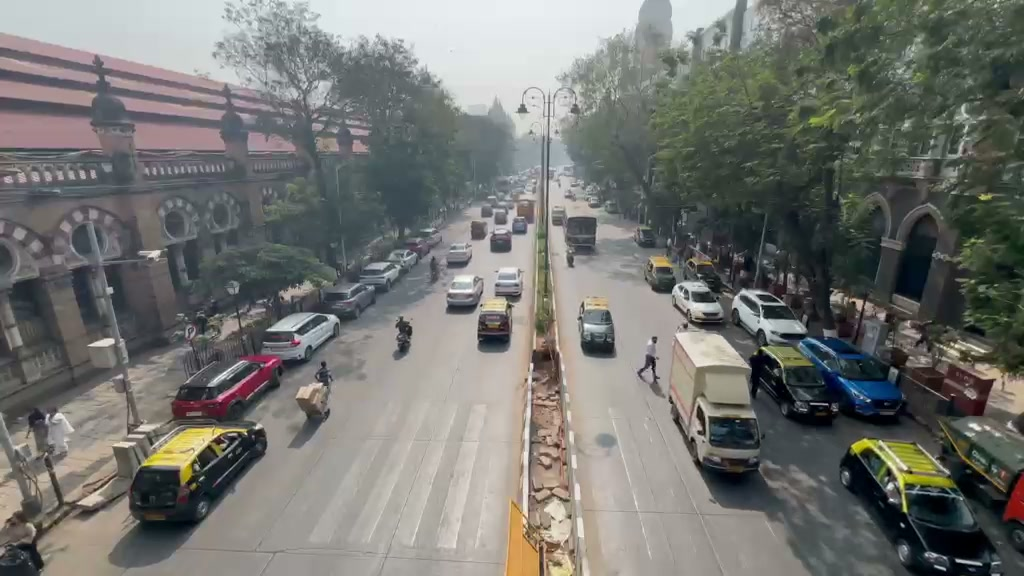bus: (564, 213, 598, 254)
car: (128, 423, 268, 524), (793, 334, 908, 423), (170, 354, 284, 421), (748, 341, 841, 423), (259, 311, 339, 366), (732, 289, 808, 345), (671, 279, 725, 326), (318, 279, 376, 321), (579, 307, 616, 356), (476, 303, 512, 345), (445, 274, 484, 311), (644, 255, 681, 294), (358, 261, 401, 293), (493, 266, 524, 299), (445, 242, 473, 268), (386, 248, 418, 268)
motorcycle: (295, 380, 333, 421)
pedestrian: (47, 408, 73, 466), (28, 406, 49, 457), (638, 333, 659, 382), (316, 360, 333, 387)
truck: (838, 436, 993, 574), (667, 326, 763, 479), (936, 413, 1024, 552), (797, 335, 906, 423), (749, 341, 840, 423), (564, 213, 598, 254)
